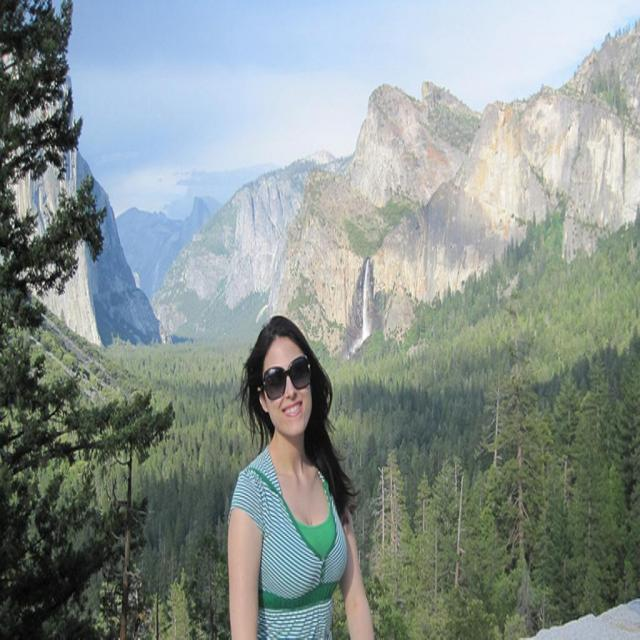nomask: (261, 340, 311, 431)
